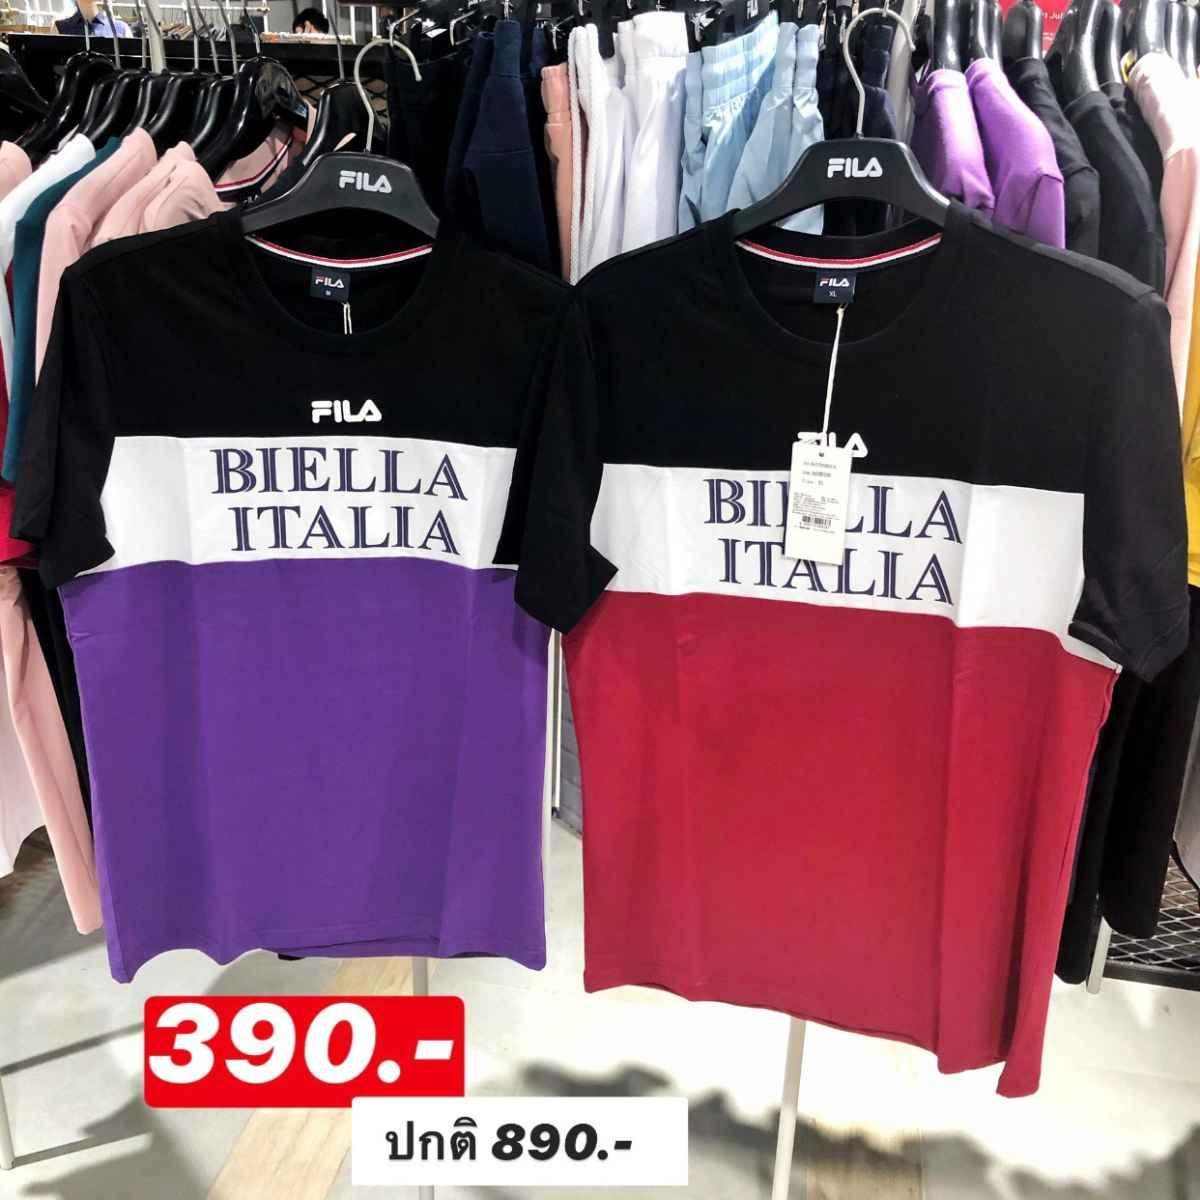Tshirt: (548, 218, 1185, 1026), (35, 208, 552, 963)
